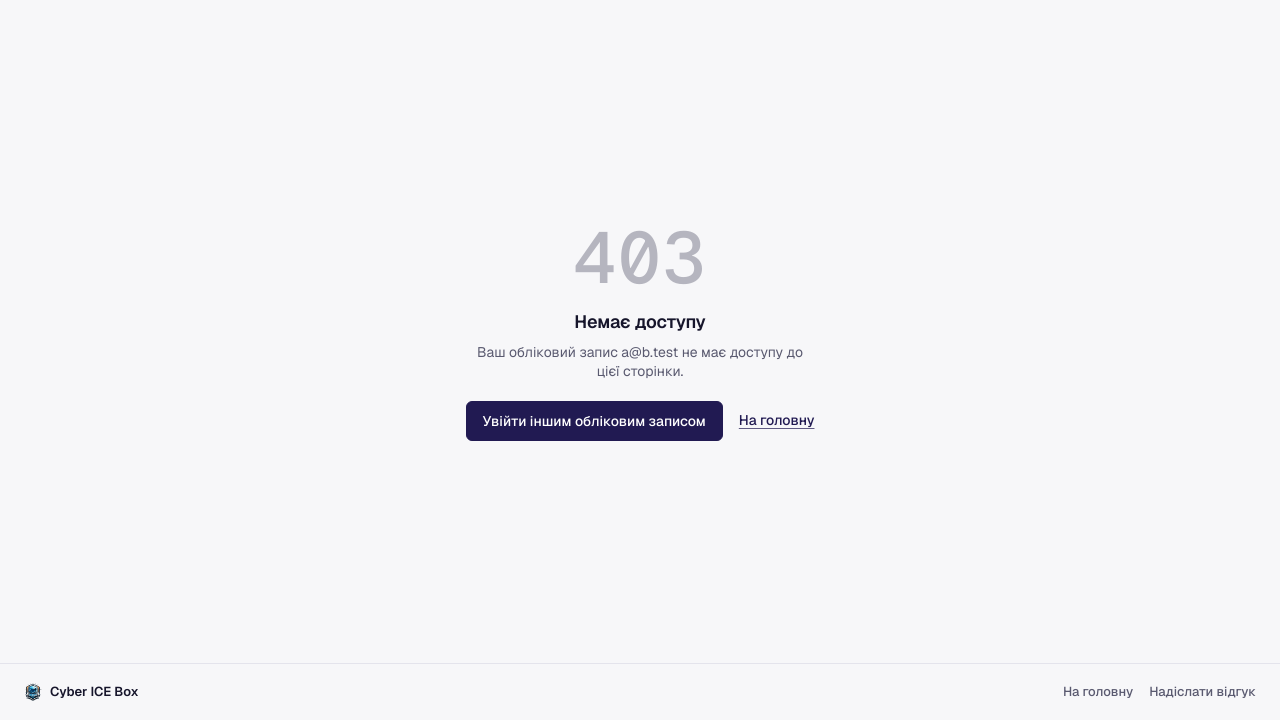
Test: NoAccessScreen › retains drafts when signing out fails
This screenshot has width=1280, height=720.
Click the button "Увійти іншим обліковим записом" at (594, 420), box [466,400,723,440]
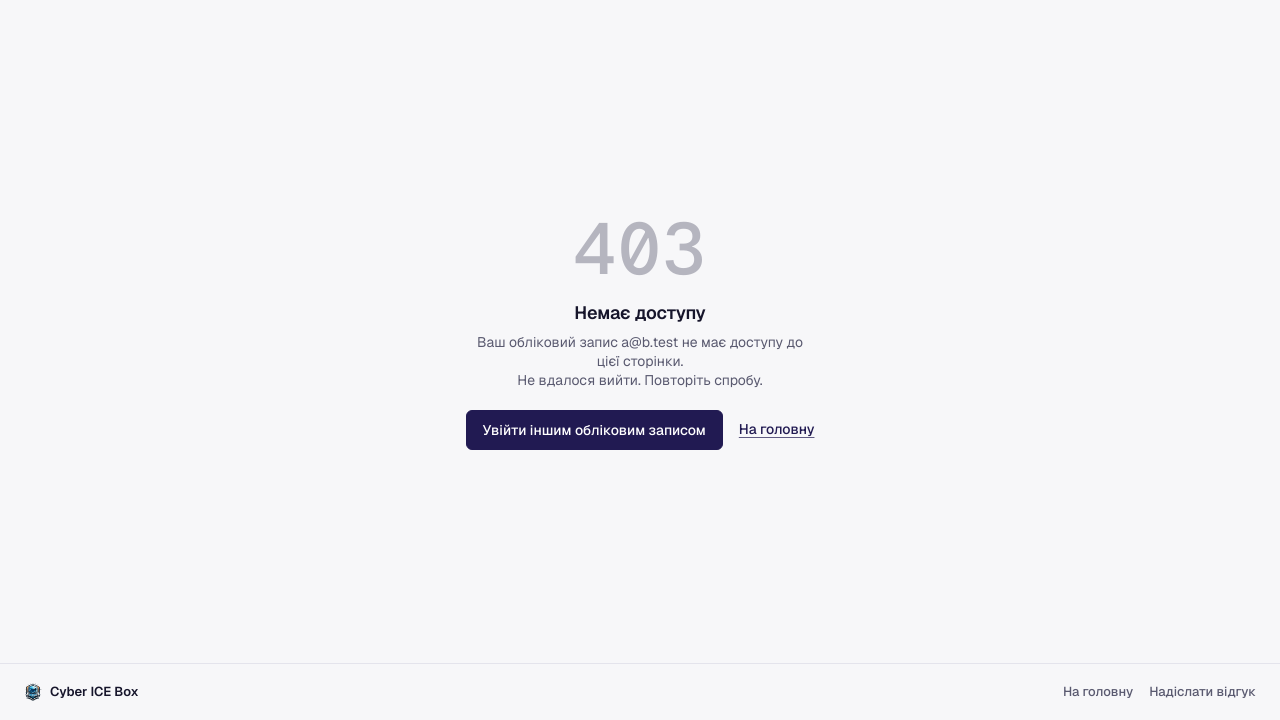
Result: the text "Не вдалося вийти. Повторіть спробу." is shown at [517,371,763,389]
